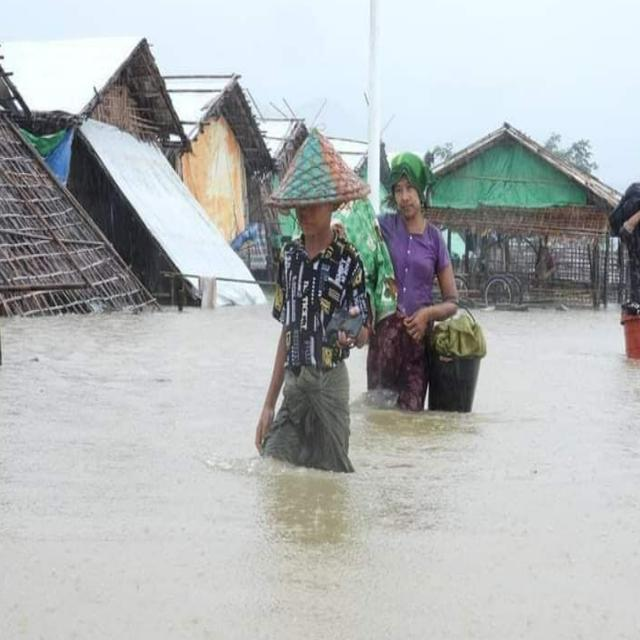Person-RiskLevel2: (251, 122, 372, 494), (369, 131, 483, 417)
